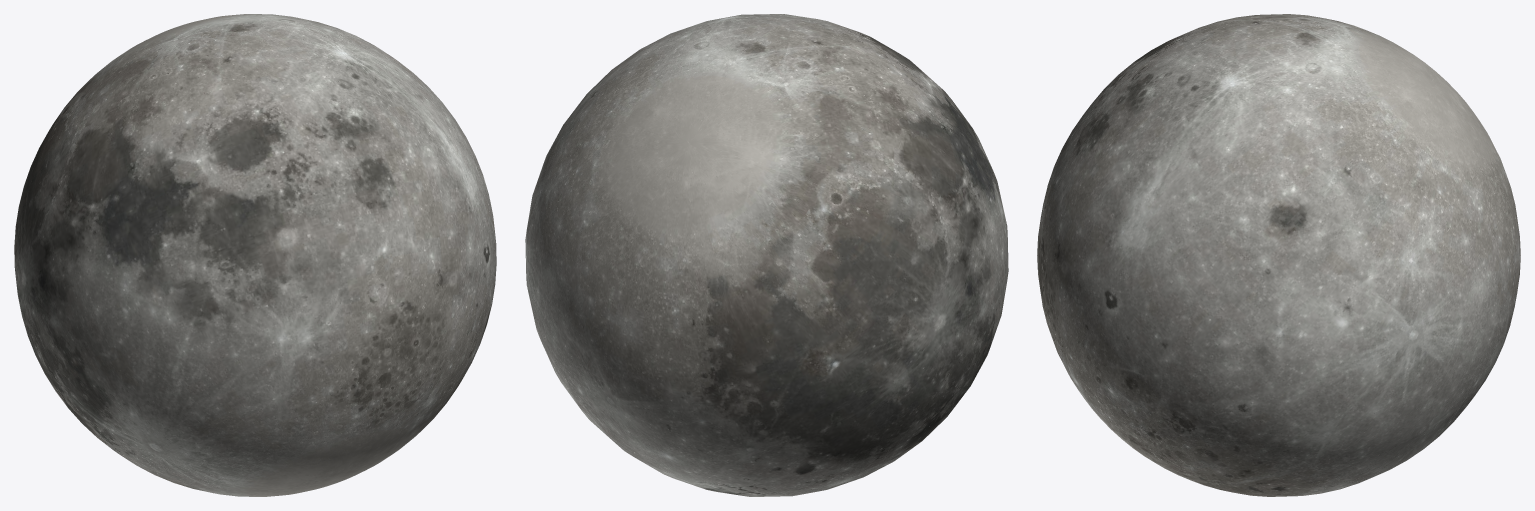
The model's file is St2_Moon.fbx.
3 renders of one model, left to right at view 1: azimuth 30°, elevation 25°; view 2: azimuth 150°, elevation 25°; view 3: azimuth 270°, elevation 25°, orthographic.
Parts seen in each view (by area): view 1: pSphere1; view 2: pSphere1; view 3: pSphere1.
Part boxes in pixels (left/top/right/bottom): pSphere1: left=14, top=14, right=496, bottom=496; pSphere1: left=525, top=14, right=1008, bottom=496; pSphere1: left=1037, top=14, right=1520, bottom=496.
Bounding box in the file's own units: 572 × 572 × 572.
1 material, 1 textured.
